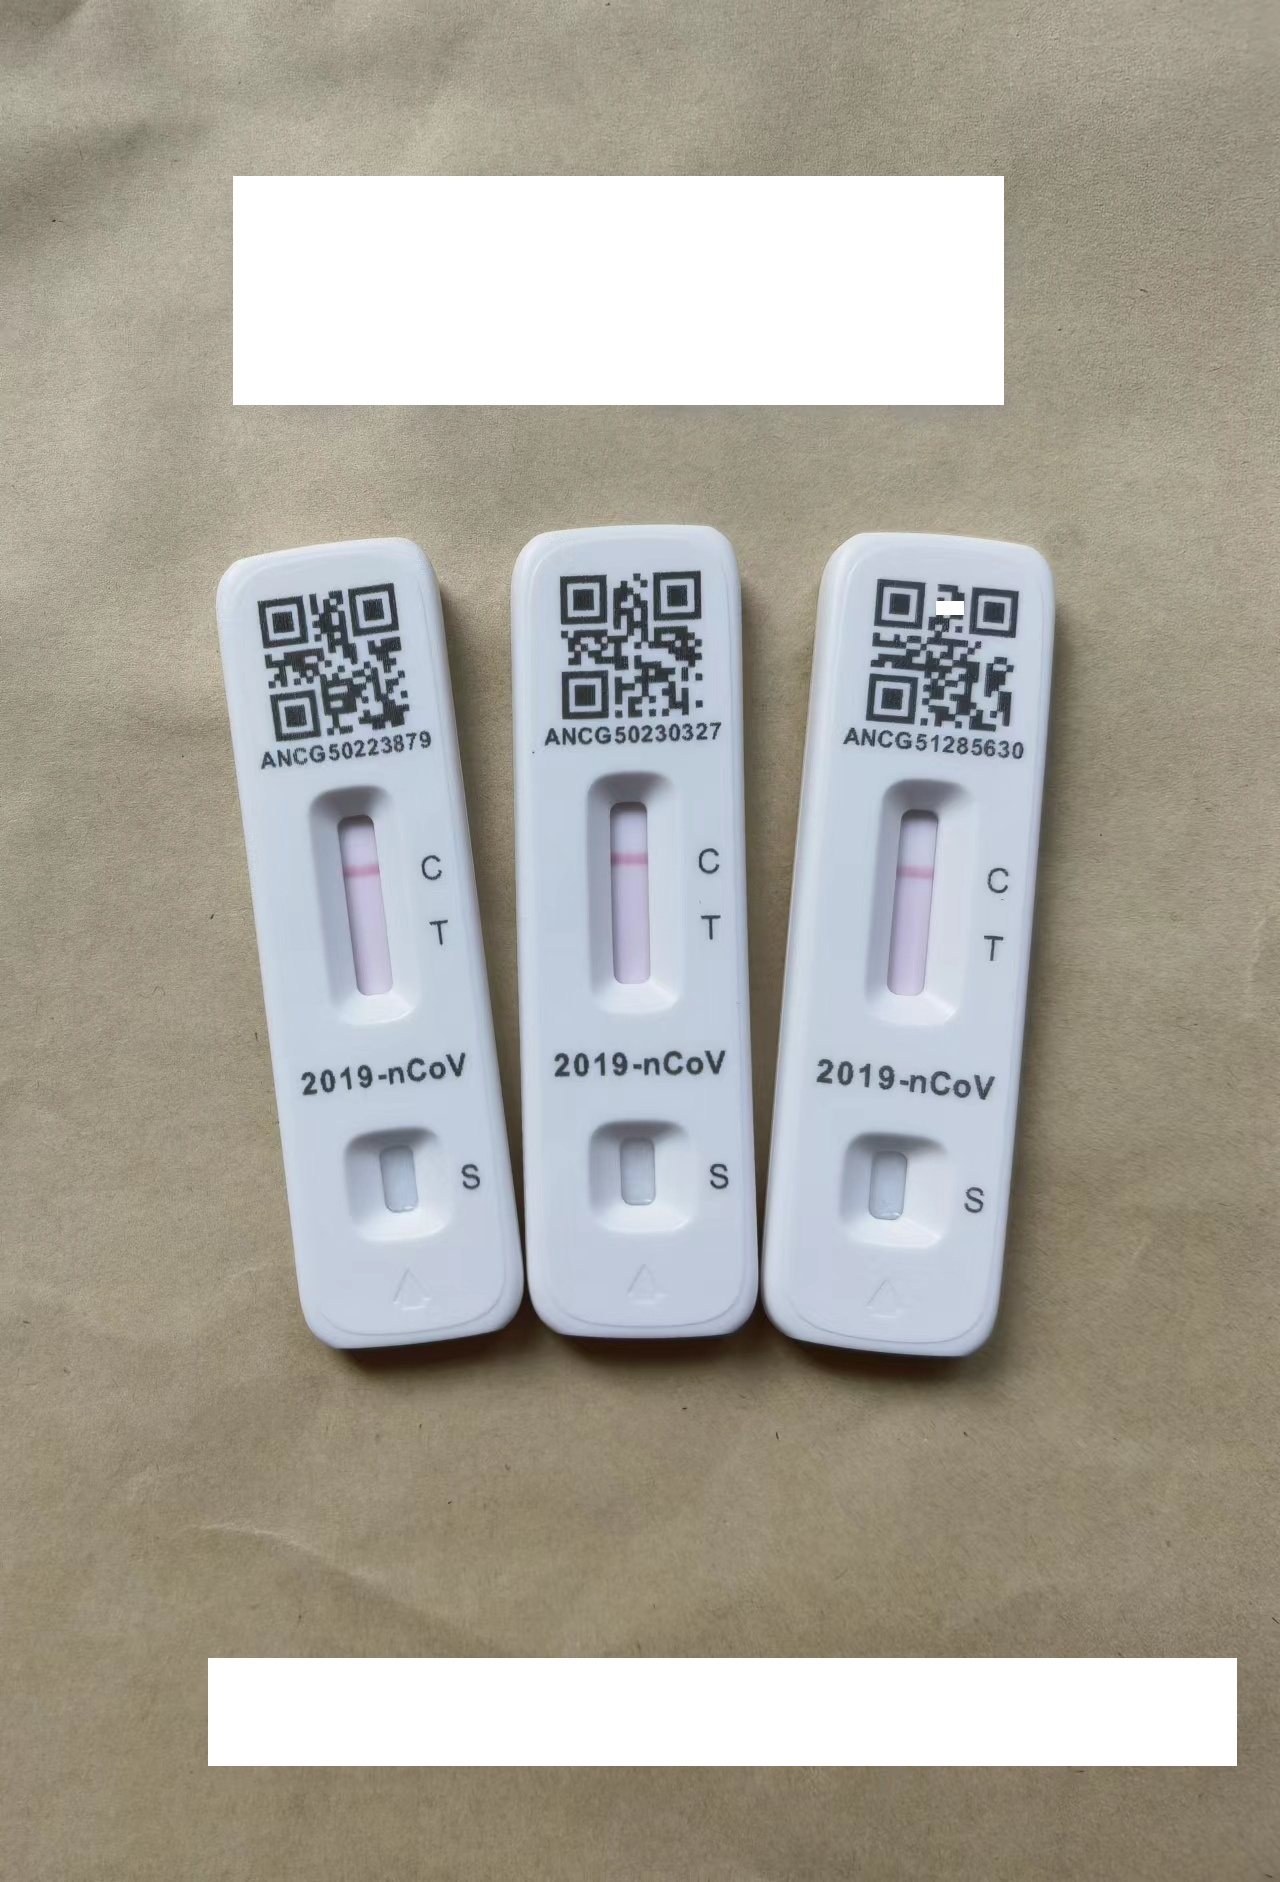negative: (869, 780, 973, 1012), (313, 787, 411, 1024), (587, 771, 676, 1018)
